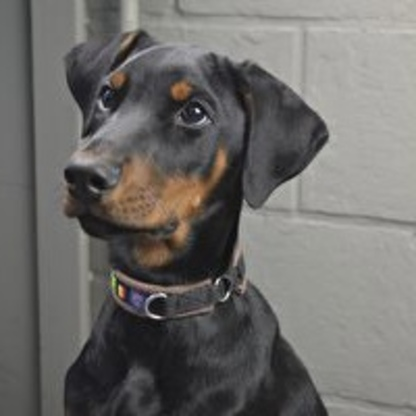doberman: (50, 23, 342, 413)
